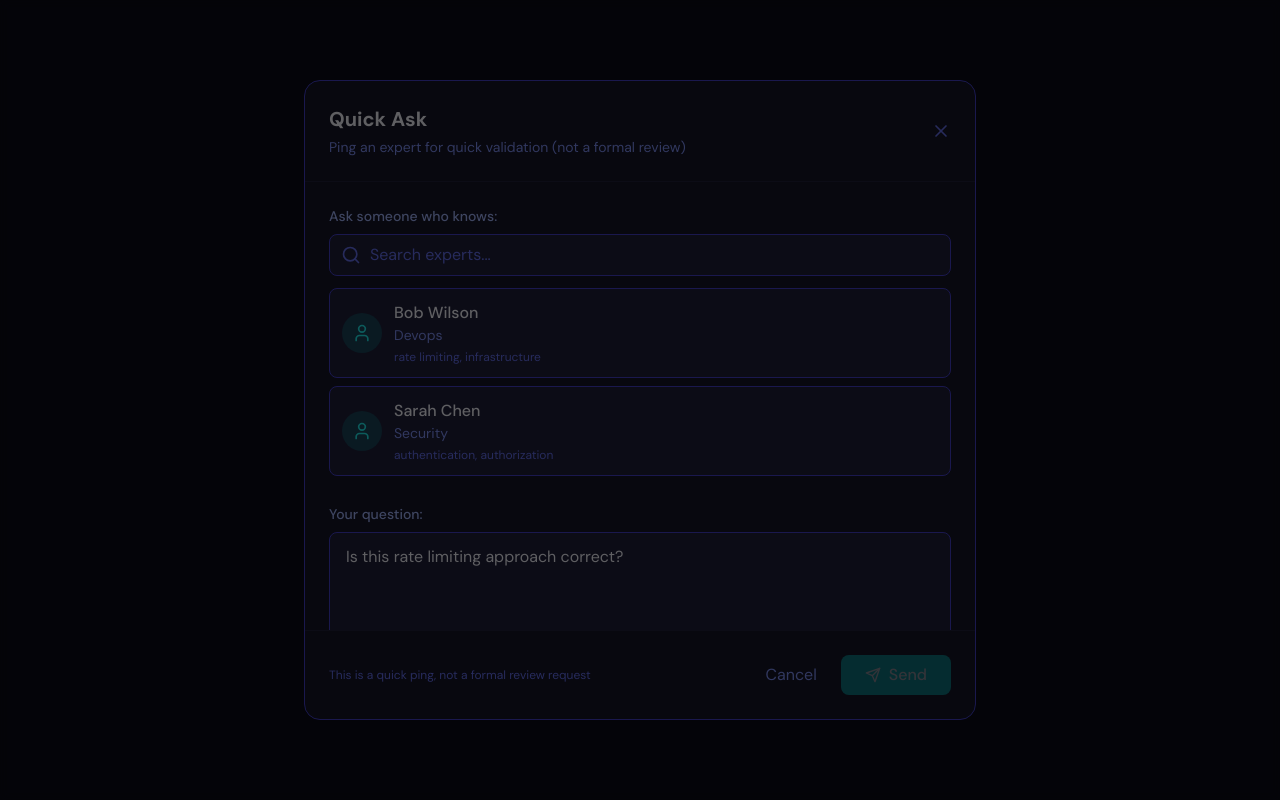
ExpertAskModal › can search experts
Type "Sarah" into the field with placeholder "Search experts...".
click(640, 255); type("Sarah")  # box top-left (329, 234), bottom-right (951, 276)
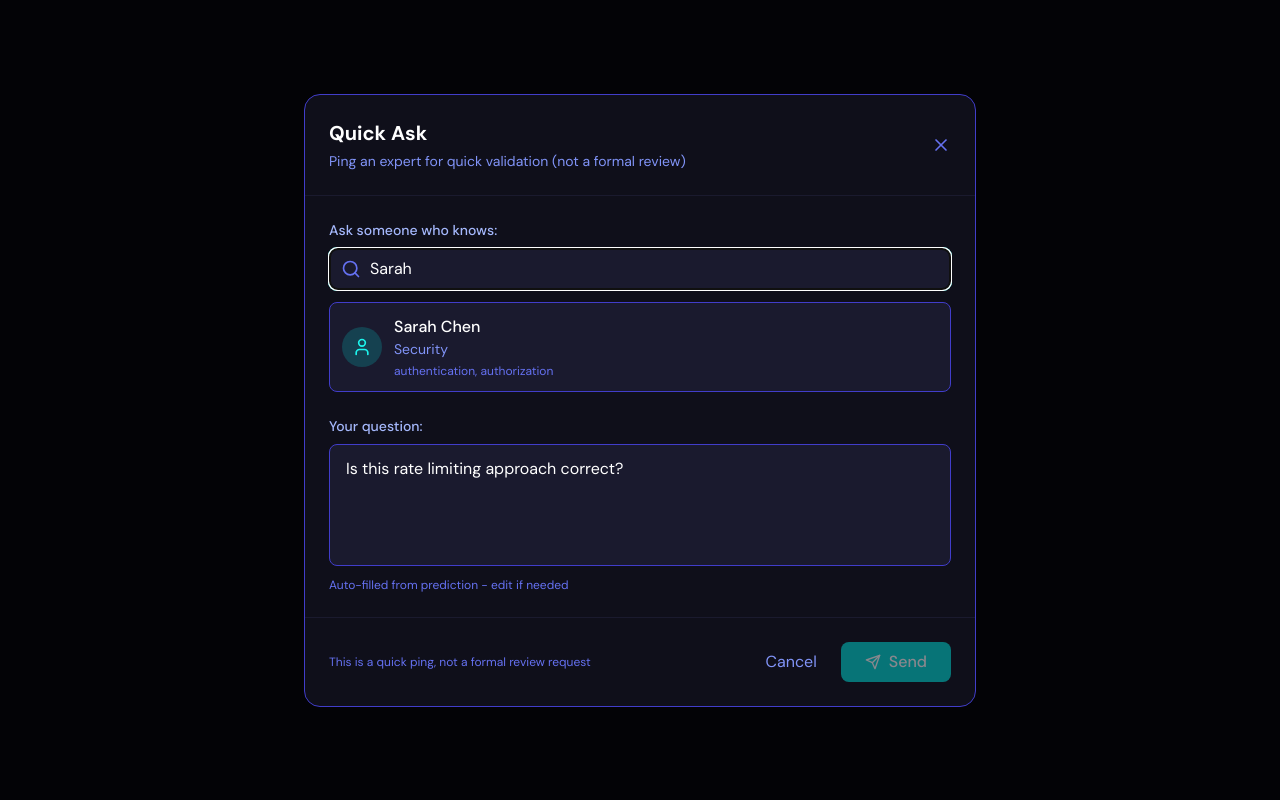
Expected: the text "Sarah Chen" is shown, top-left (394, 316), bottom-right (480, 336)
Expected: the button "Bob Wilson" is gone
